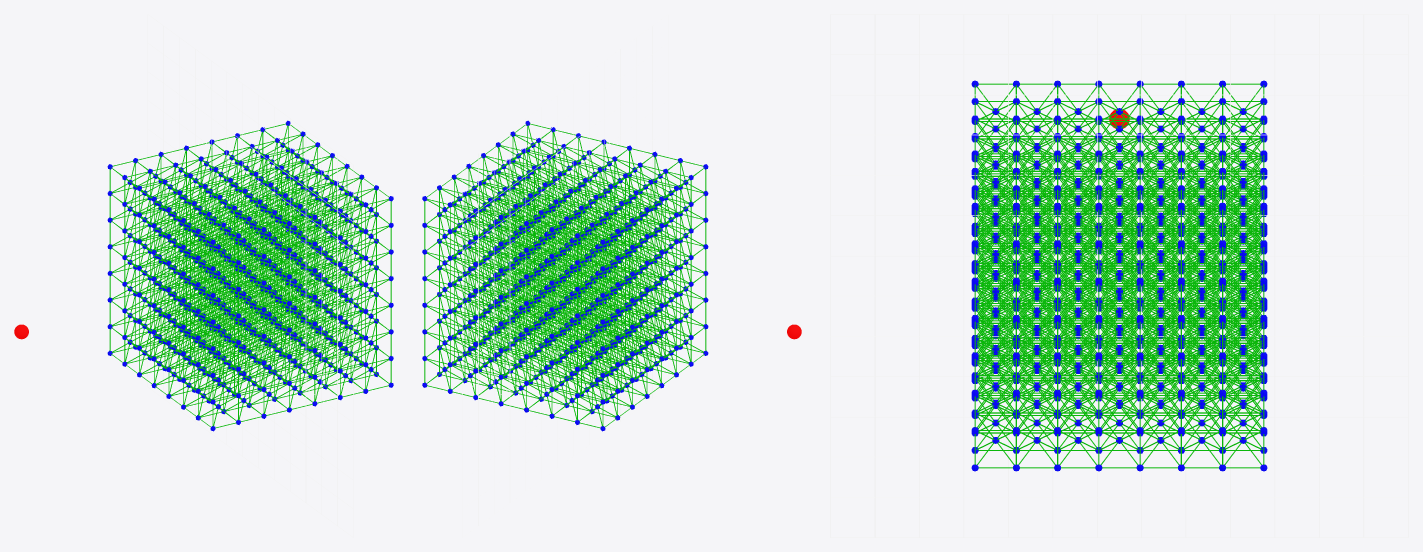
Rendered from bullet2.glb.
3 renders of one model, left to right at view 1: azimuth 30°, elevation 25°; view 2: azimuth 150°, elevation 25°; view 3: azimuth 270°, elevation 25°, orthographic. The views are drawn at different scales.
Size of the model in its own units: 12.84 by 14.02 by 14.02.
